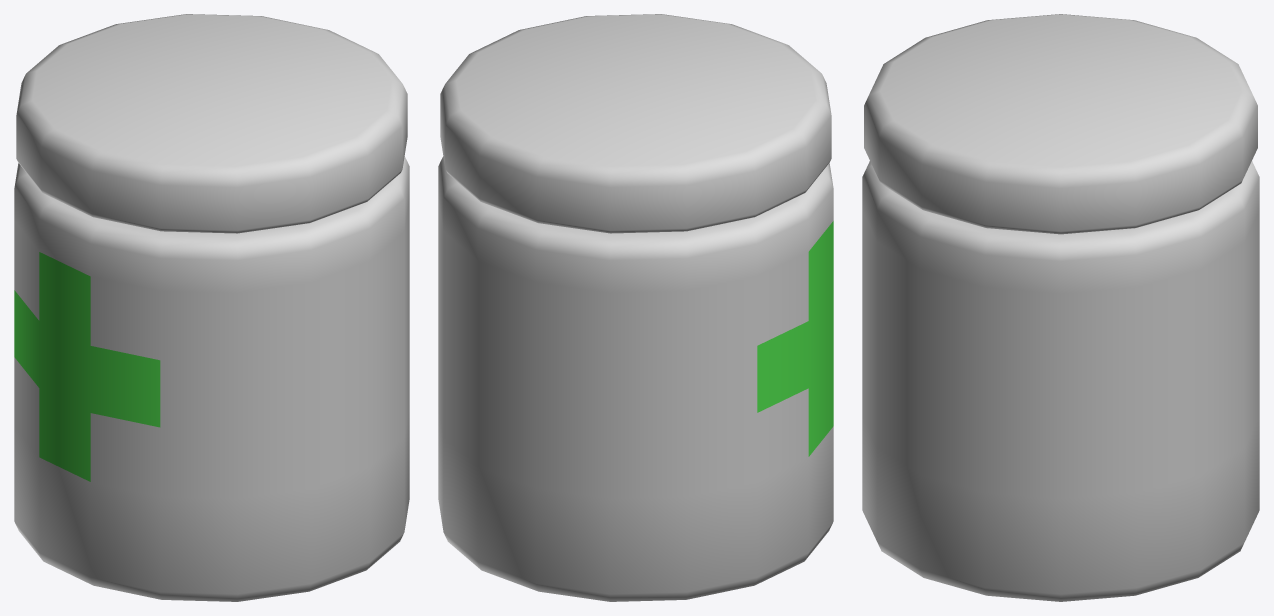
File: medicin.fbx
The picture shows the model from 3 angles, left to right: view 1: azimuth 30°, elevation 25°; view 2: azimuth 150°, elevation 25°; view 3: azimuth 270°, elevation 25°; orthographic projection.
Visible parts, largest first — view 1: Cylinder; view 2: Cylinder; view 3: Cylinder.
Boxes of the visible parts, bbox=[...] form: Cylinder: bbox=[14, 14, 409, 601]; Cylinder: bbox=[438, 14, 833, 601]; Cylinder: bbox=[862, 14, 1259, 601].
Size of the model in its own units: 200 by 240 by 200.
